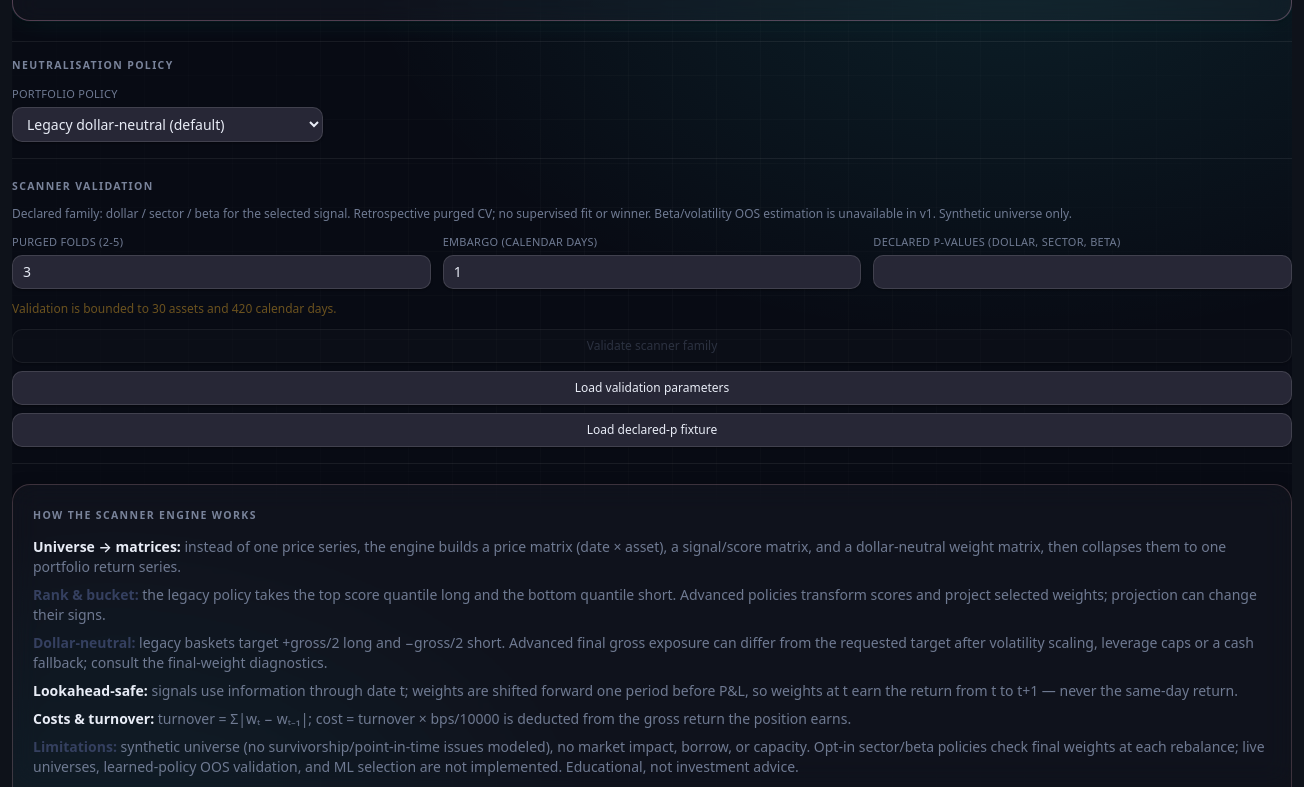
Test: ScannerLabPanel › prefills bounded parameters and declared values without running research
(page scrolled)
Click the button "Load validation parameters" at {"x": 652, "y": 388}, box [12,371,1292,405]
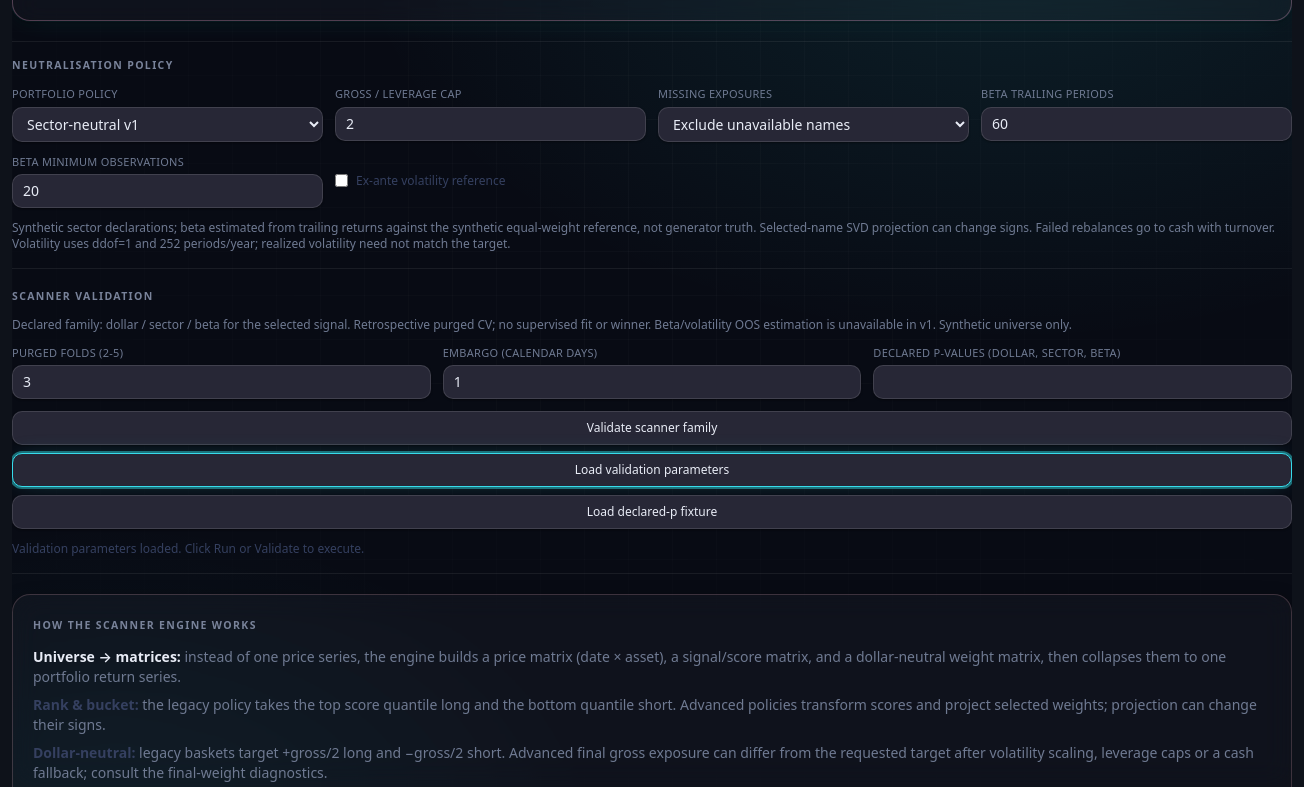
Check: the dropdown labelled "Portfolio policy" shows "Sector-neutral v1", box [12,106,323,142]
Click the button "Load declared-p fixture" at {"x": 652, "y": 512}, box [12,495,1292,529]
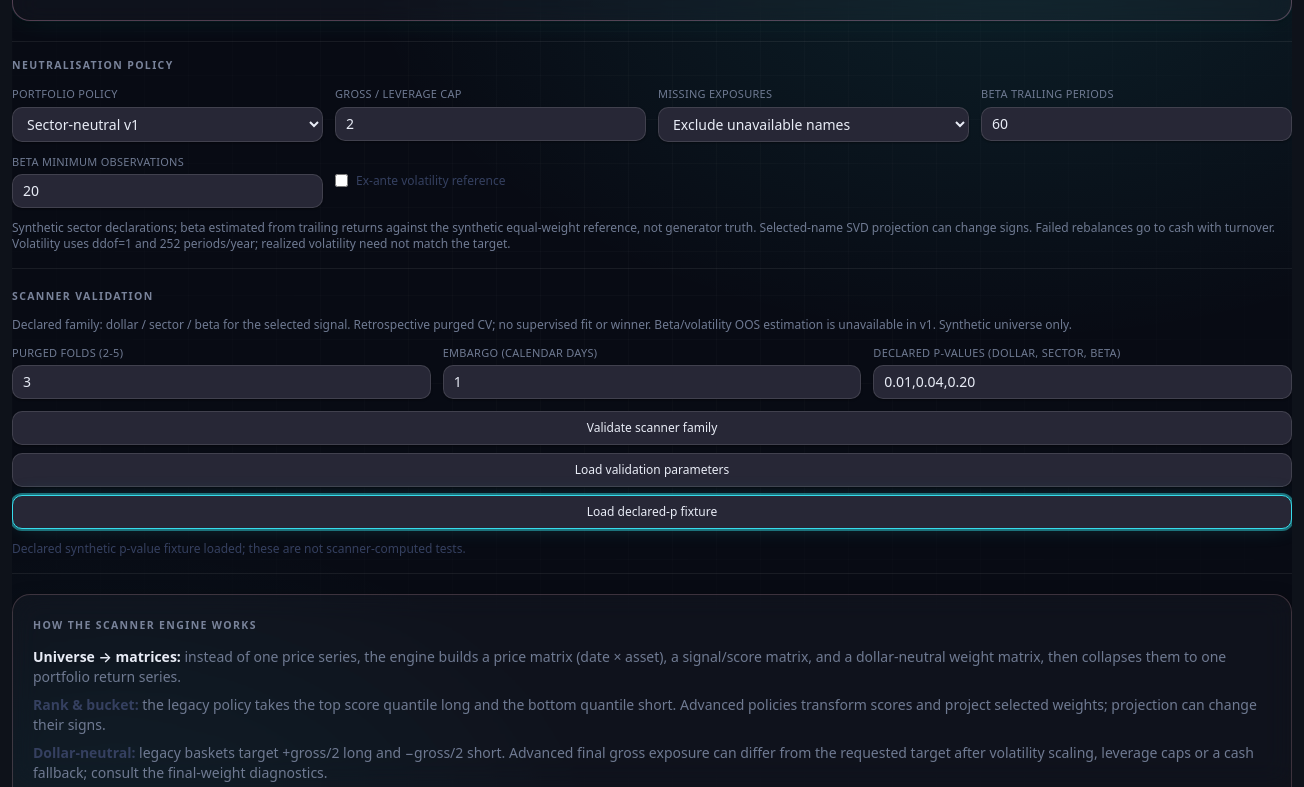
Check: the field labelled "Declared p-values (dollar, sector, beta)" holds "0.01,0.04,0.20", box [873,365,1292,399]
